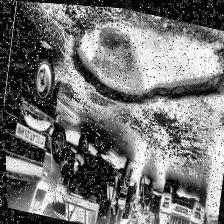pothole: (64, 4, 224, 126)
